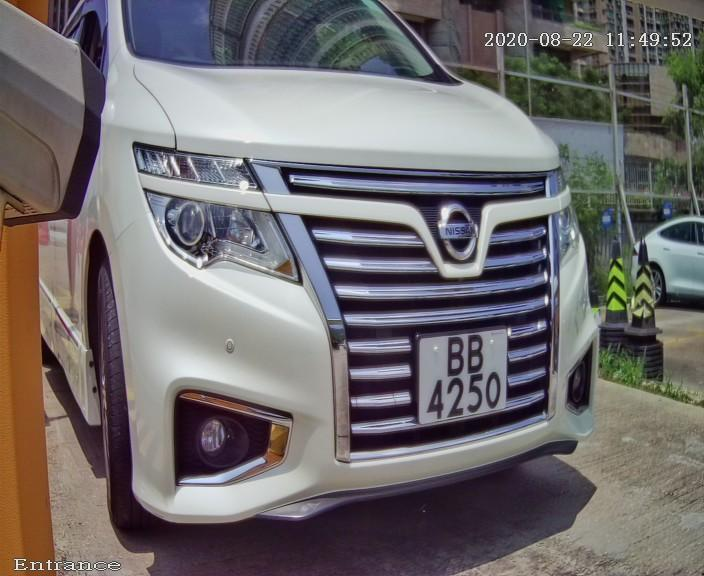License Plate: (406, 312, 519, 443)
